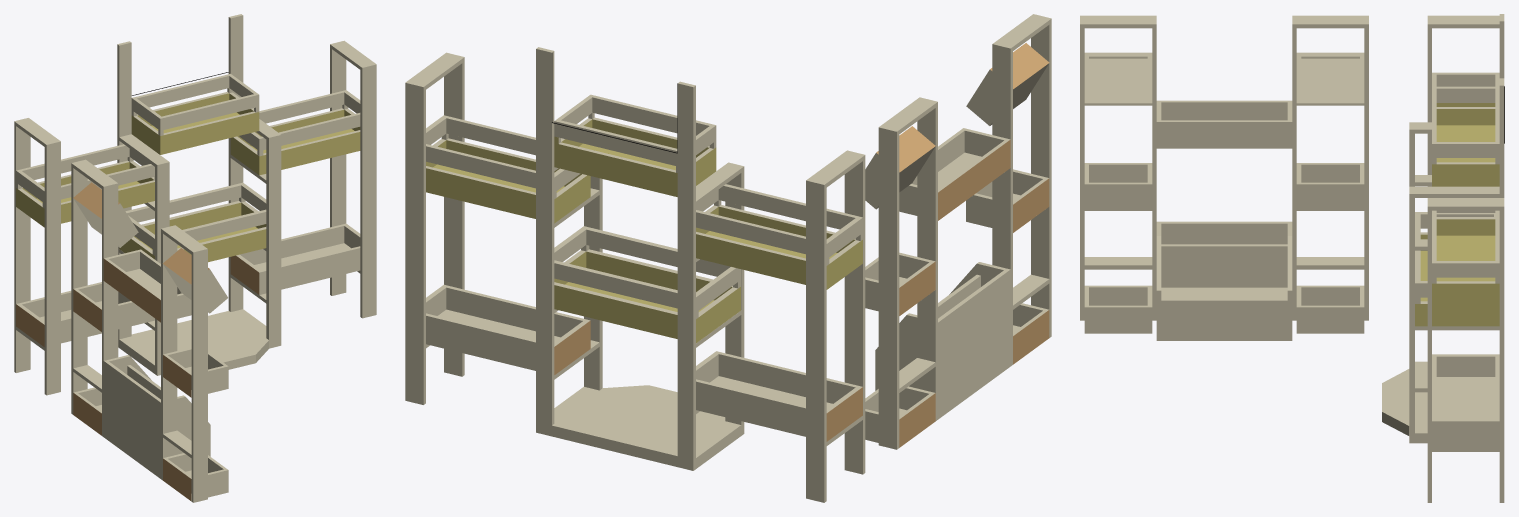
The model's file is sketchfab-shelves-display-2x2.8f4bdd09.glb.
The picture shows the model from 3 angles, left to right: view 1: azimuth 30°, elevation 25°; view 2: azimuth 150°, elevation 25°; view 3: azimuth 270°, elevation 25°; orthographic projection. The views are drawn at different scales.
Parts seen in each view (by area): view 1: Object_7, Object_6, Object_8; view 2: Object_7, Object_6, Object_8; view 3: Object_7, Object_6.
Boxes of the visible parts, bbox=[...] form: Object_7: bbox=[14, 14, 376, 502]; Object_6: bbox=[16, 93, 360, 262]; Object_8: bbox=[16, 182, 259, 500]; Object_7: bbox=[405, 14, 1051, 502]; Object_6: bbox=[426, 119, 862, 342]; Object_8: bbox=[554, 43, 1049, 447]; Object_7: bbox=[1080, 14, 1504, 502]; Object_6: bbox=[1415, 103, 1499, 326].
Size of the model in its own units: 2 by 1.75 by 1.88.
